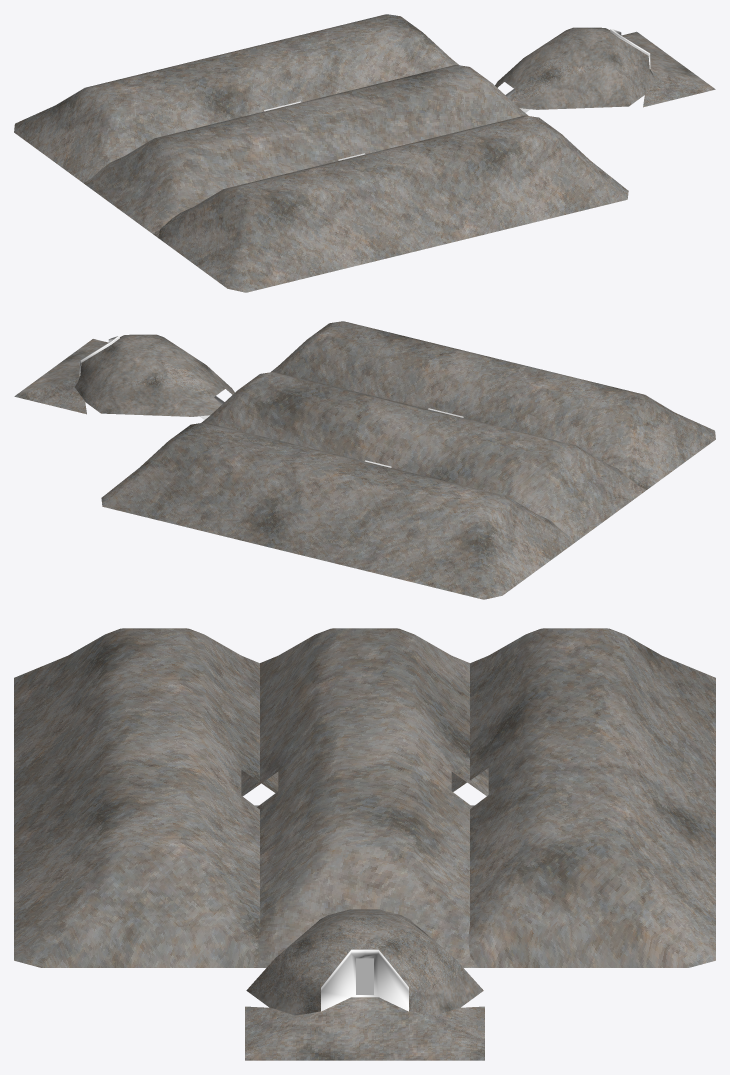
File: Home Base.glb
The picture shows the model from 3 angles, top to bottom: view 1: azimuth 30°, elevation 25°; view 2: azimuth 150°, elevation 25°; view 3: azimuth 270°, elevation 25°; orthographic projection. The views are drawn at different scales.
Visible parts, largest first — view 1: Cube.002, Cylinder.002, home bunker; view 2: Cube.002, Cylinder.002, home bunker; view 3: Cube.002, home bunker, Cylinder.002.
Boxes of the visible parts, <box> form: Cube.002: <box>14,14,628,292</box>; Cylinder.002: <box>495,27,655,109</box>; home bunker: <box>264,29,715,160</box>; Cube.002: <box>101,321,715,599</box>; Cylinder.002: <box>74,334,234,416</box>; home bunker: <box>14,336,463,467</box>; Cube.002: <box>14,628,715,967</box>; home bunker: <box>245,805,484,1060</box>; Cylinder.002: <box>246,909,483,1015</box>.
Bounding box in the file's own units: 69.52 × 9.23 × 50.07.
4 materials, 2 textured.
